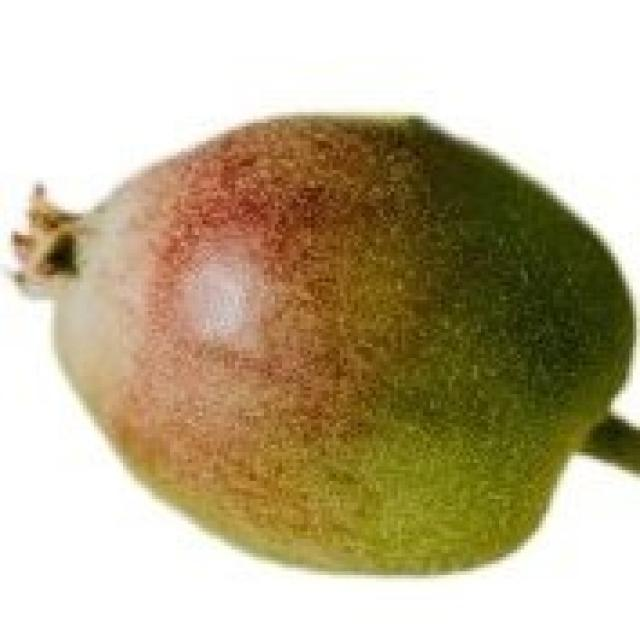20-_ripeness: (29, 116, 640, 571)
